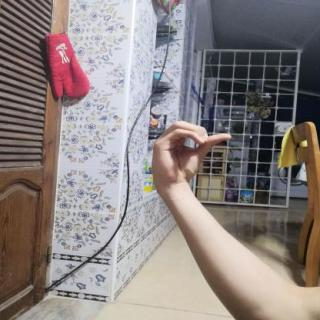WAW: (143, 116, 241, 192)
